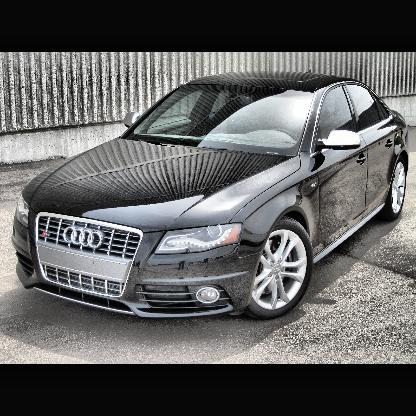Audi S4 Sedan 2012: (11, 72, 411, 321)
